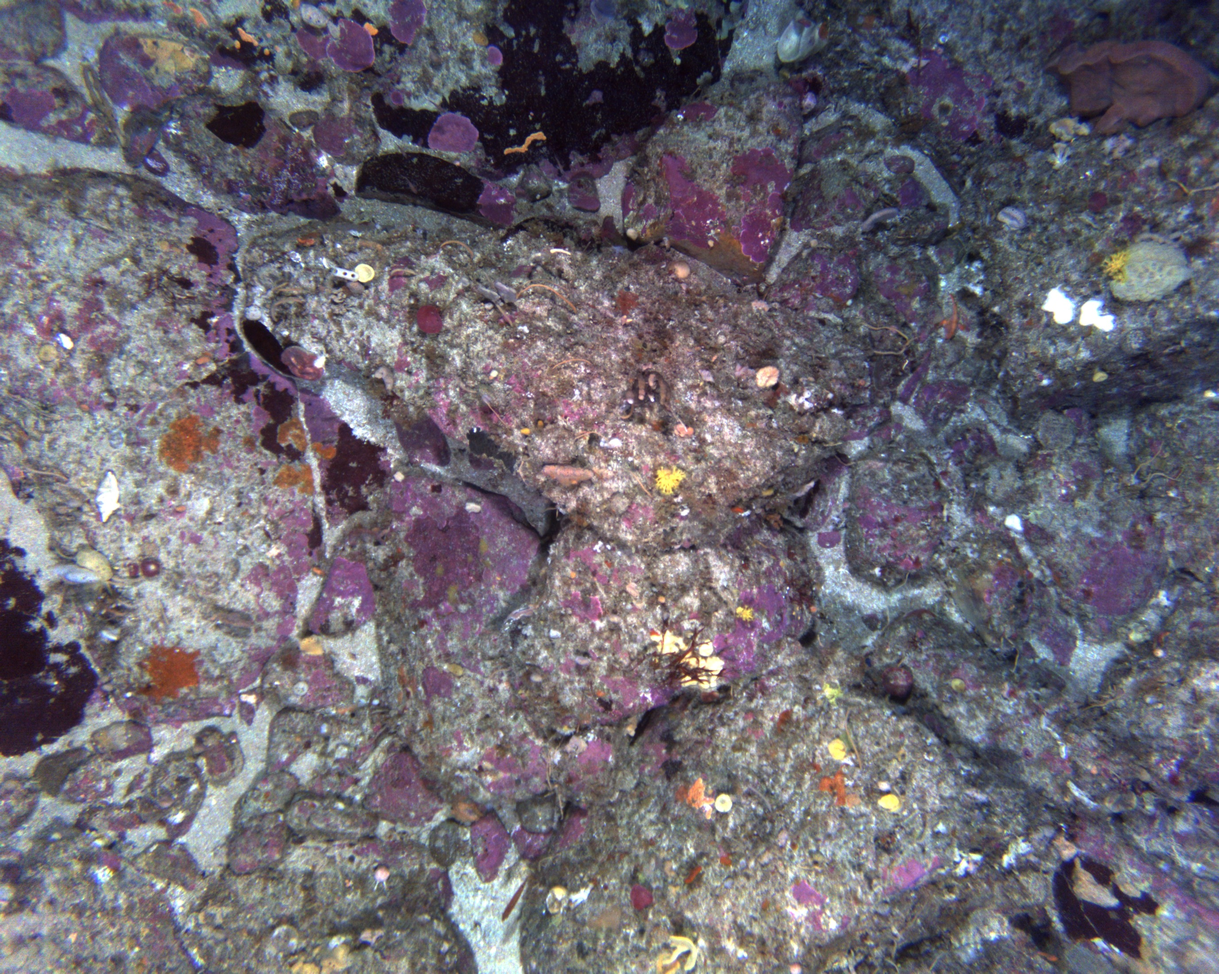Brachionichthyidae: (935, 293, 967, 342)
